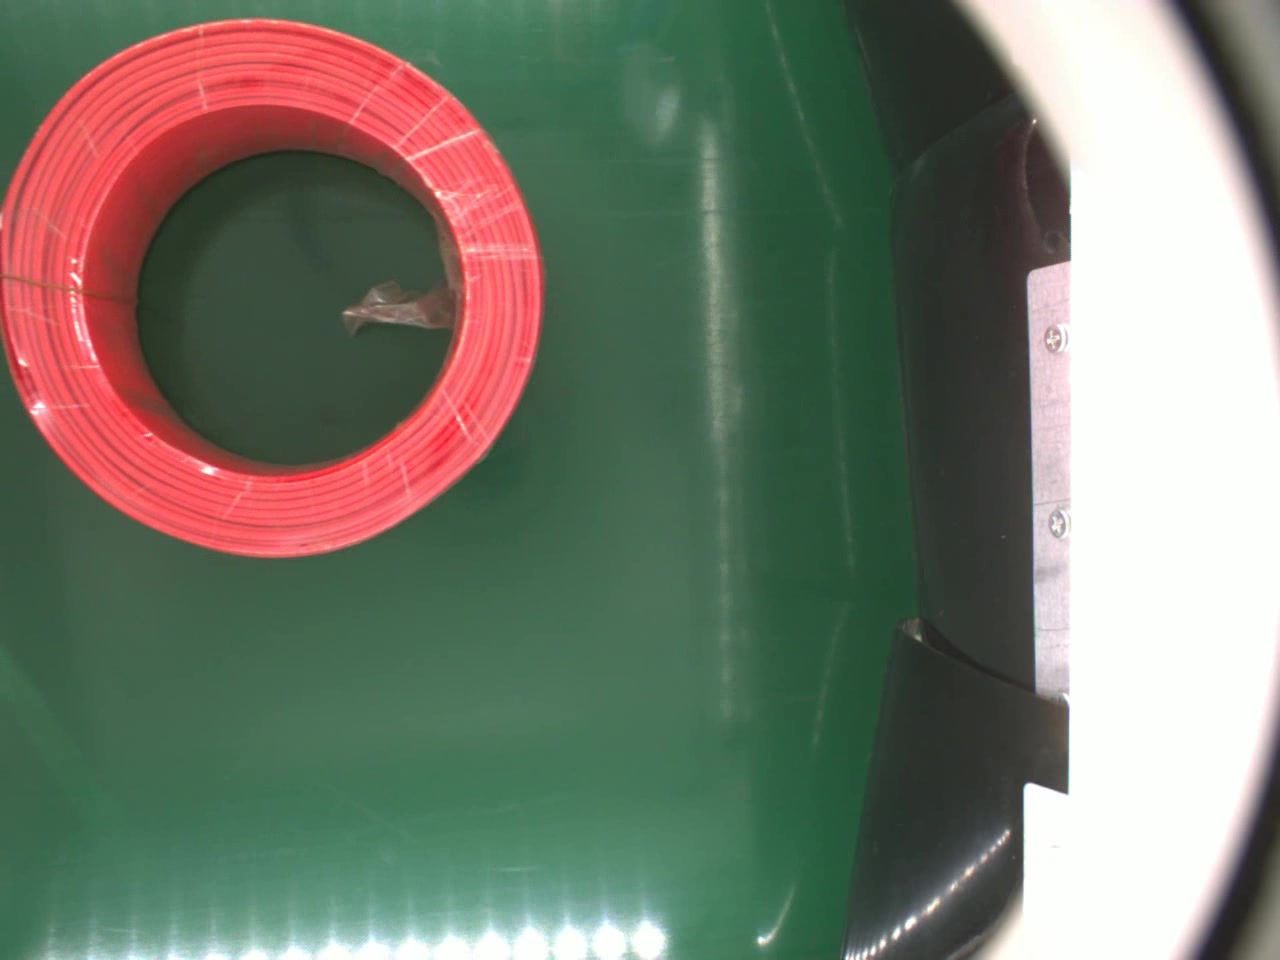red: (0, 14, 547, 563)
